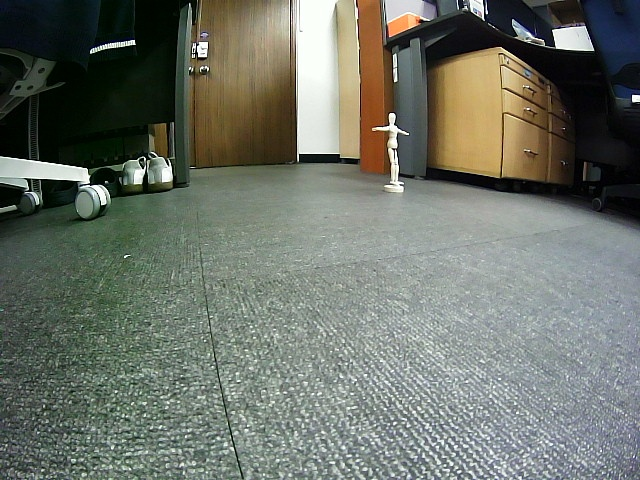person: (371, 113, 408, 187)
